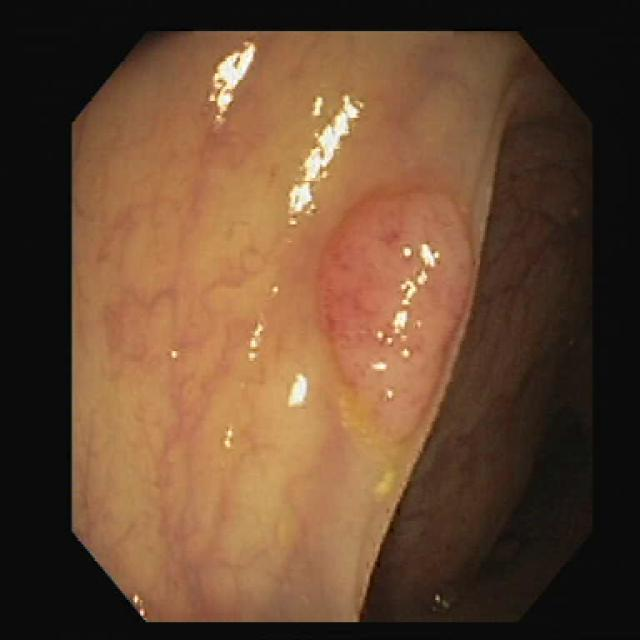tumor: (322, 184, 473, 440)
